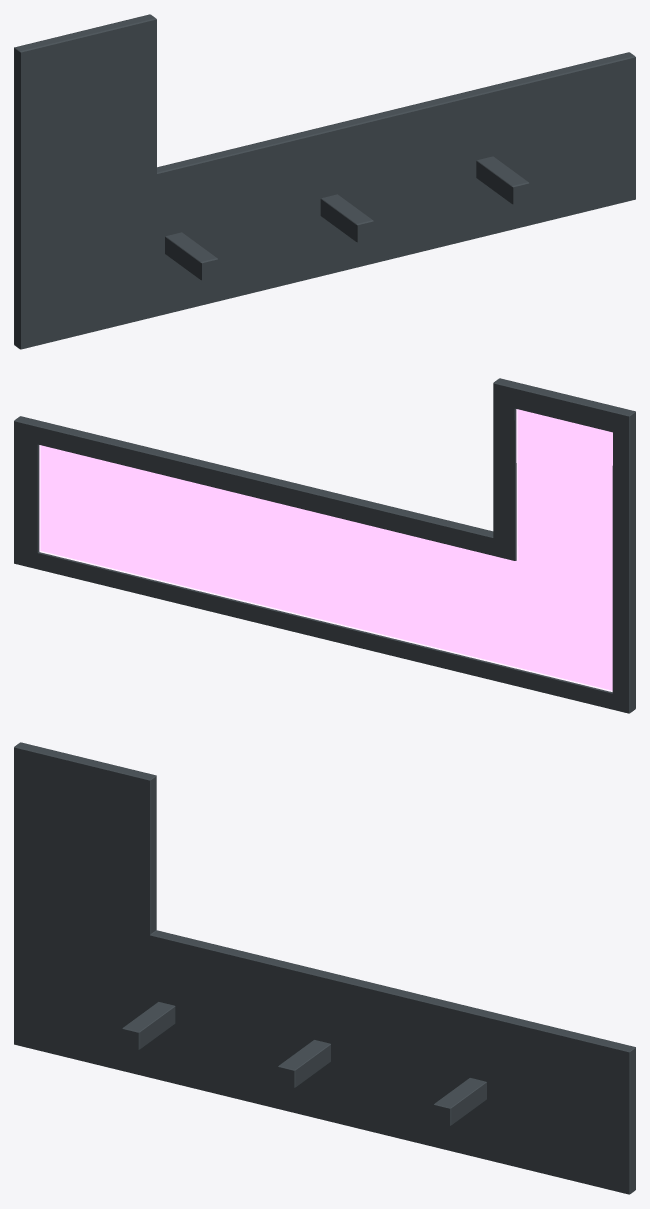
Rendered from sign4.fbx.
3 views of the same model, one above another, from view 1: azimuth 30°, elevation 25°; view 2: azimuth 150°, elevation 25°; view 3: azimuth 330°, elevation 25° (orthographic).
Visible parts, largest first — view 1: Куб.001; view 2: Куб.001; view 3: Куб.001.
Part boxes in pixels (left/top/right/bottom): Куб.001: left=14, top=14, right=635, bottom=349; Куб.001: left=14, top=378, right=635, bottom=713; Куб.001: left=14, top=742, right=635, bottom=1194.
Size of the model in its own units: 180 by 83.22 by 21.89.
